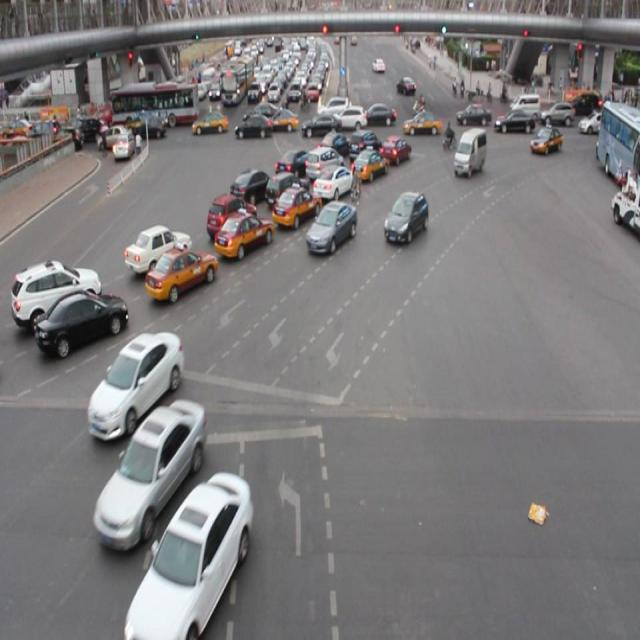car: (128, 470, 249, 640), (92, 402, 202, 547), (88, 330, 180, 440), (35, 290, 127, 356), (13, 260, 102, 324), (145, 247, 218, 301), (125, 223, 191, 274), (214, 209, 274, 256), (306, 200, 357, 255), (383, 191, 426, 242), (207, 194, 257, 236), (272, 185, 319, 227), (231, 170, 271, 208), (266, 171, 308, 207), (313, 164, 354, 200), (350, 146, 387, 182), (275, 148, 312, 184), (347, 128, 380, 160), (529, 124, 562, 156), (380, 132, 410, 164), (318, 128, 350, 156)
truck: (452, 127, 487, 175), (304, 147, 343, 182)
